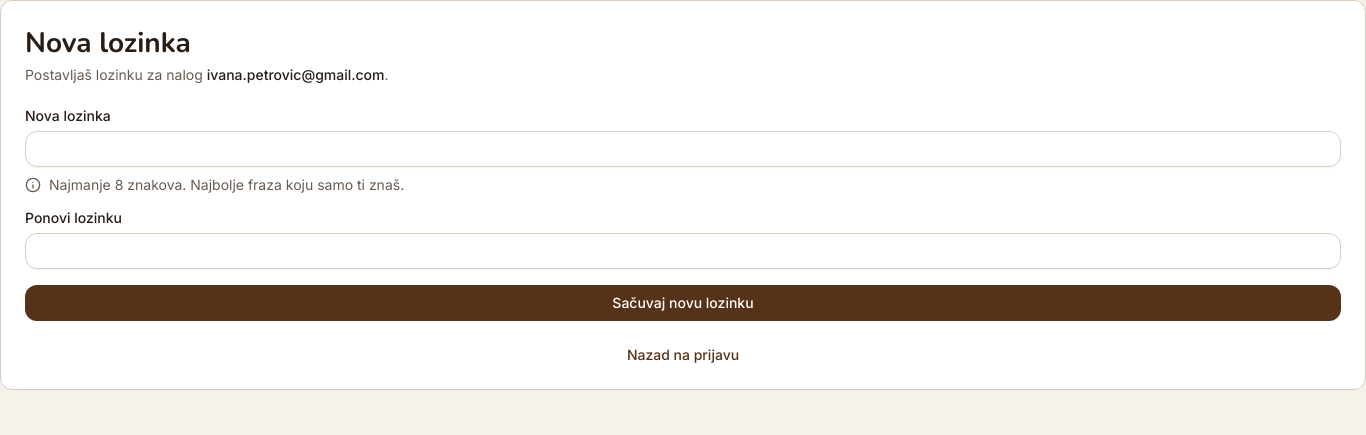
Test: S28 new password (FR-34, EP-42 updateUser) › mismatch shows the inline error and nothing is sent
This screenshot has width=1366, height=435.
Type "lunaimaks2026" into the password field labelled "Nova lozinka" at (683, 149), box [25,131,1341,167]
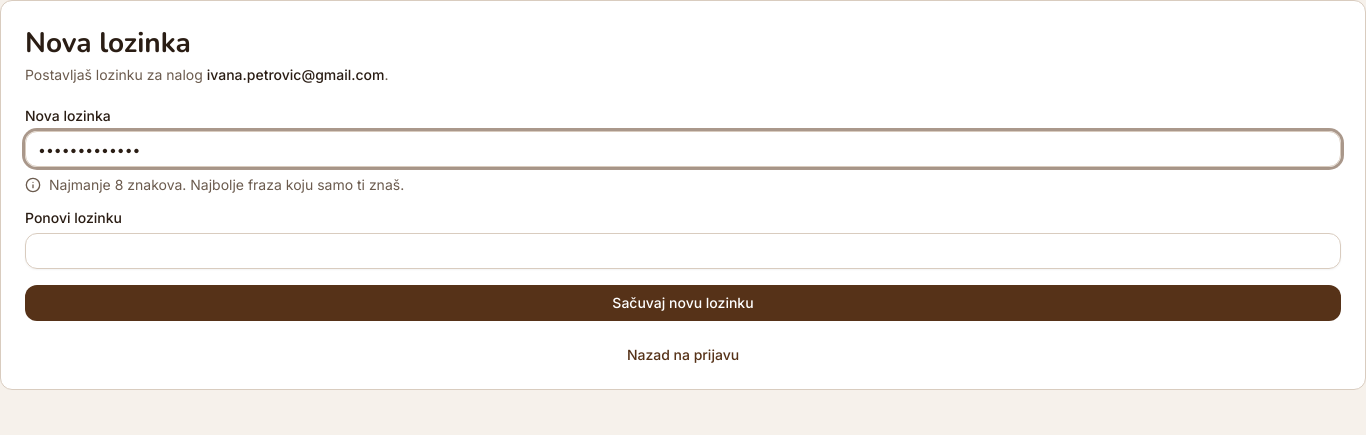
Type "lunaimaks2025" into the password field labelled "Ponovi lozinku" at (683, 251), box [25,233,1341,269]
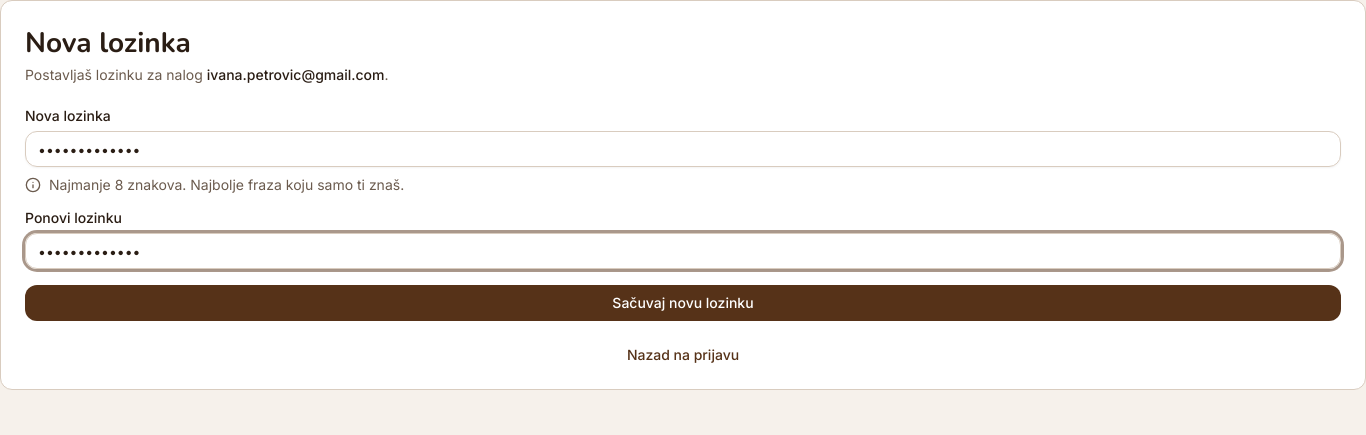
Click the button "Sačuvaj novu lozinku" at (683, 303), box [25,285,1341,321]
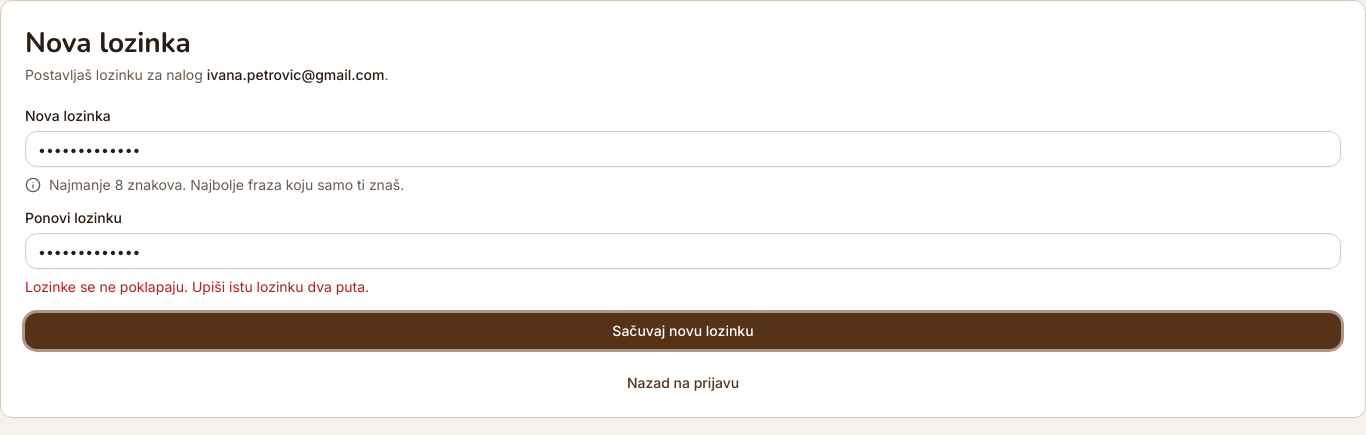
Expected: the text "Lozinke se ne poklapaju. Upiši istu lozinku dva puta." is shown, [25,278,369,295]
